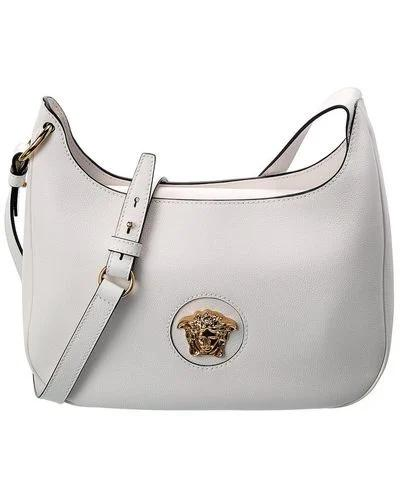VERSACE: (168, 292, 249, 372)
